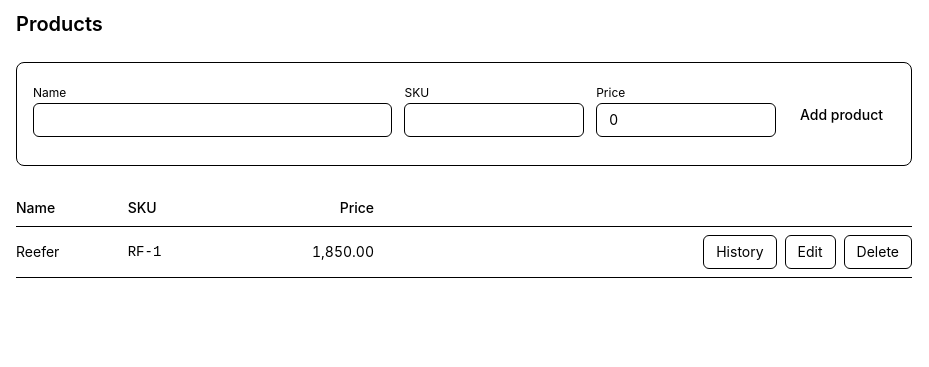
Test case: ProductsPage › shows ConflictError and ConcurrencyError messages
The image size is (929, 367).
Submit the form named "New product", box [16,62,912,166]
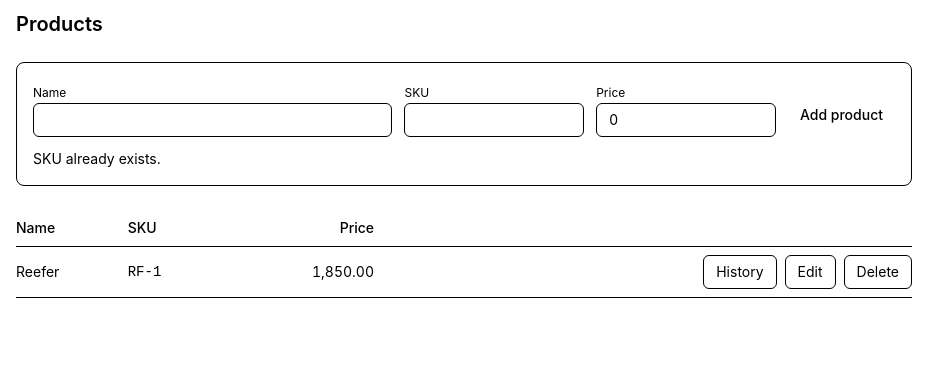
Check: the text "SKU already exists." is shown, box [33,150,161,167]
Click the button "Edit".
click(810, 272)  # box [785,255,836,289]
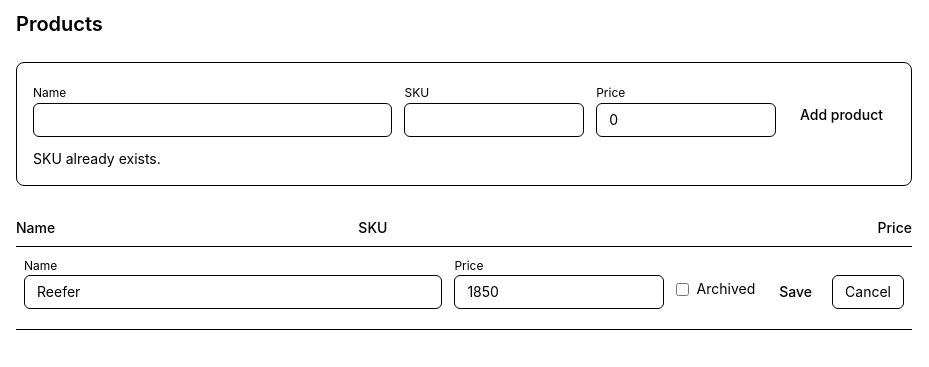
Submit the form named "Edit Reefer", box [24,255,904,321]
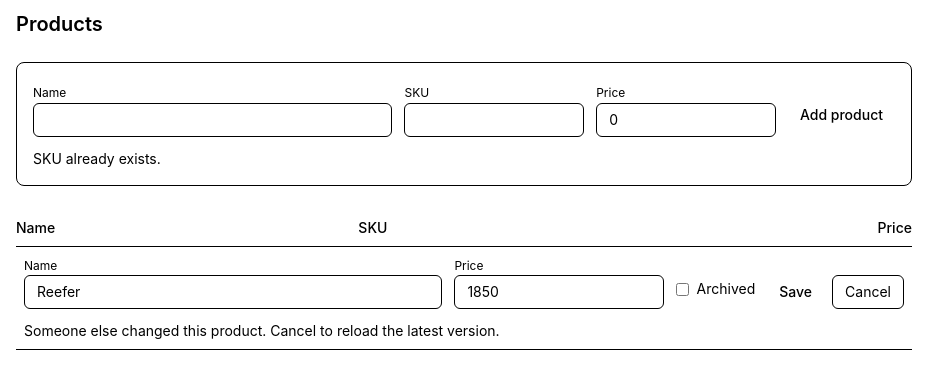
Check: the text "Someone else changed this product. Cancel to reload the latest version." is shown, box [24,322,500,339]
